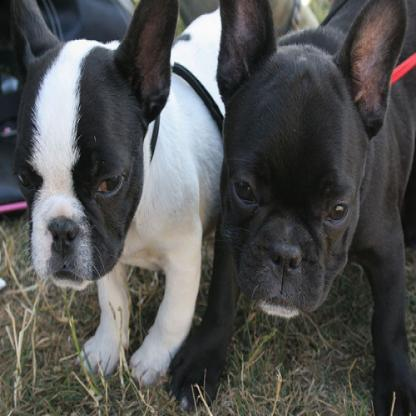French_bulldog: (15, 0, 235, 380)
